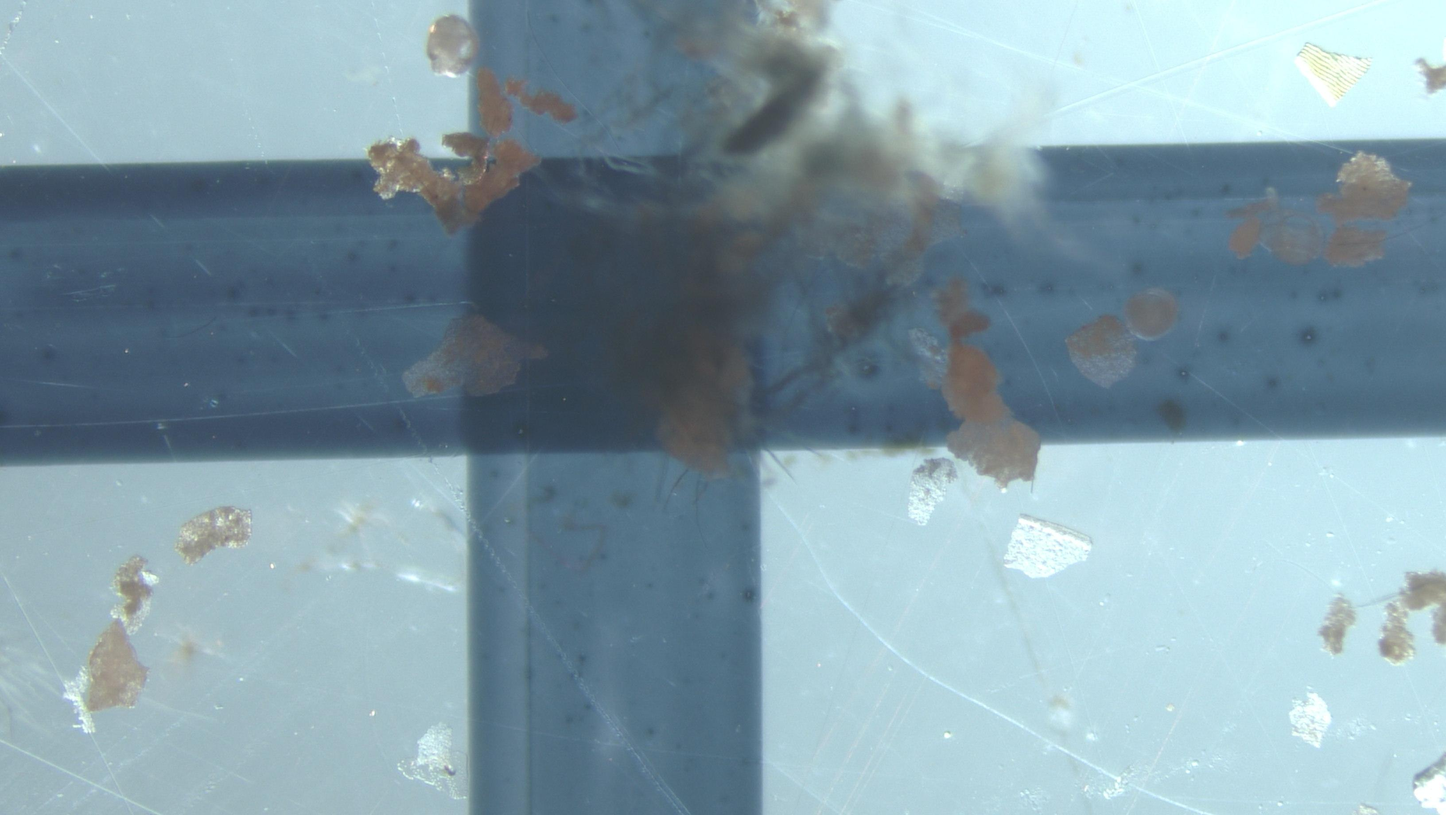live: (1262, 210, 1323, 265), (426, 15, 479, 77), (1125, 289, 1178, 341)
